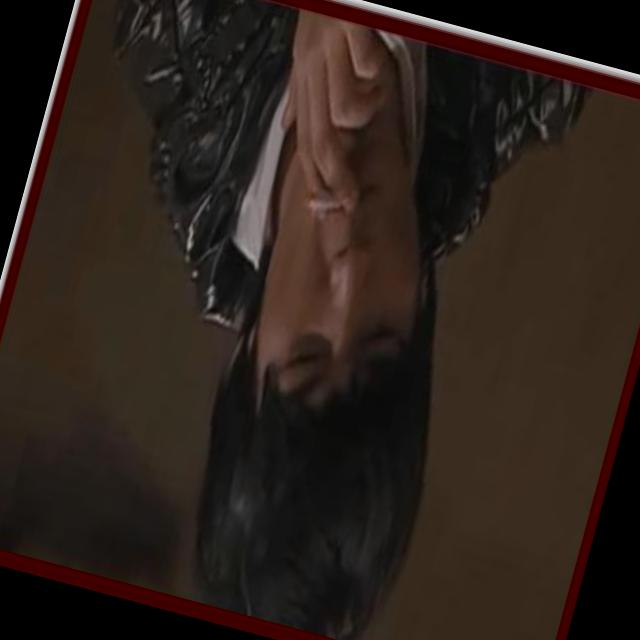smoke: (300, 178, 349, 222)
